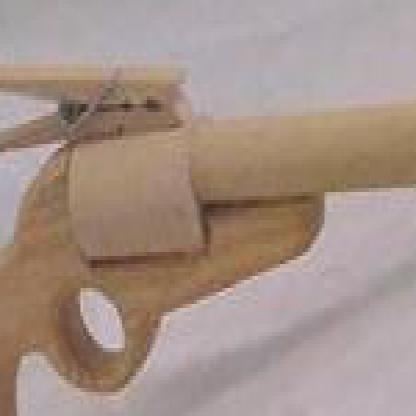gun: (0, 44, 413, 412)
